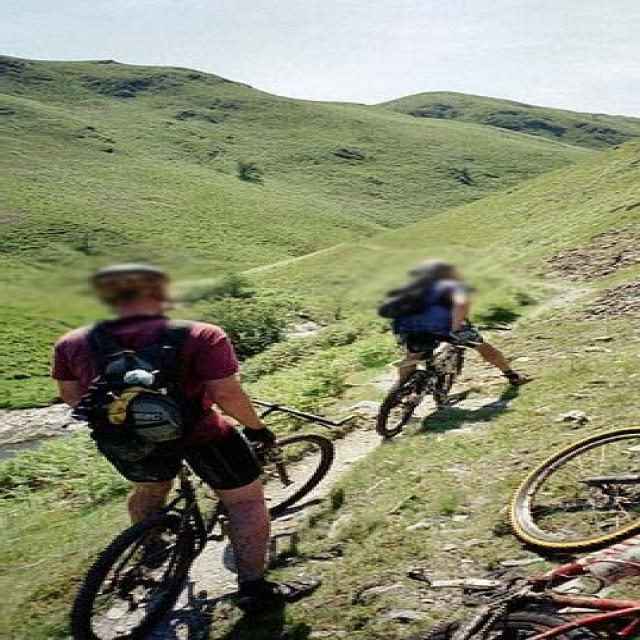Bicycle: (45, 377, 370, 640), (365, 327, 514, 444)
